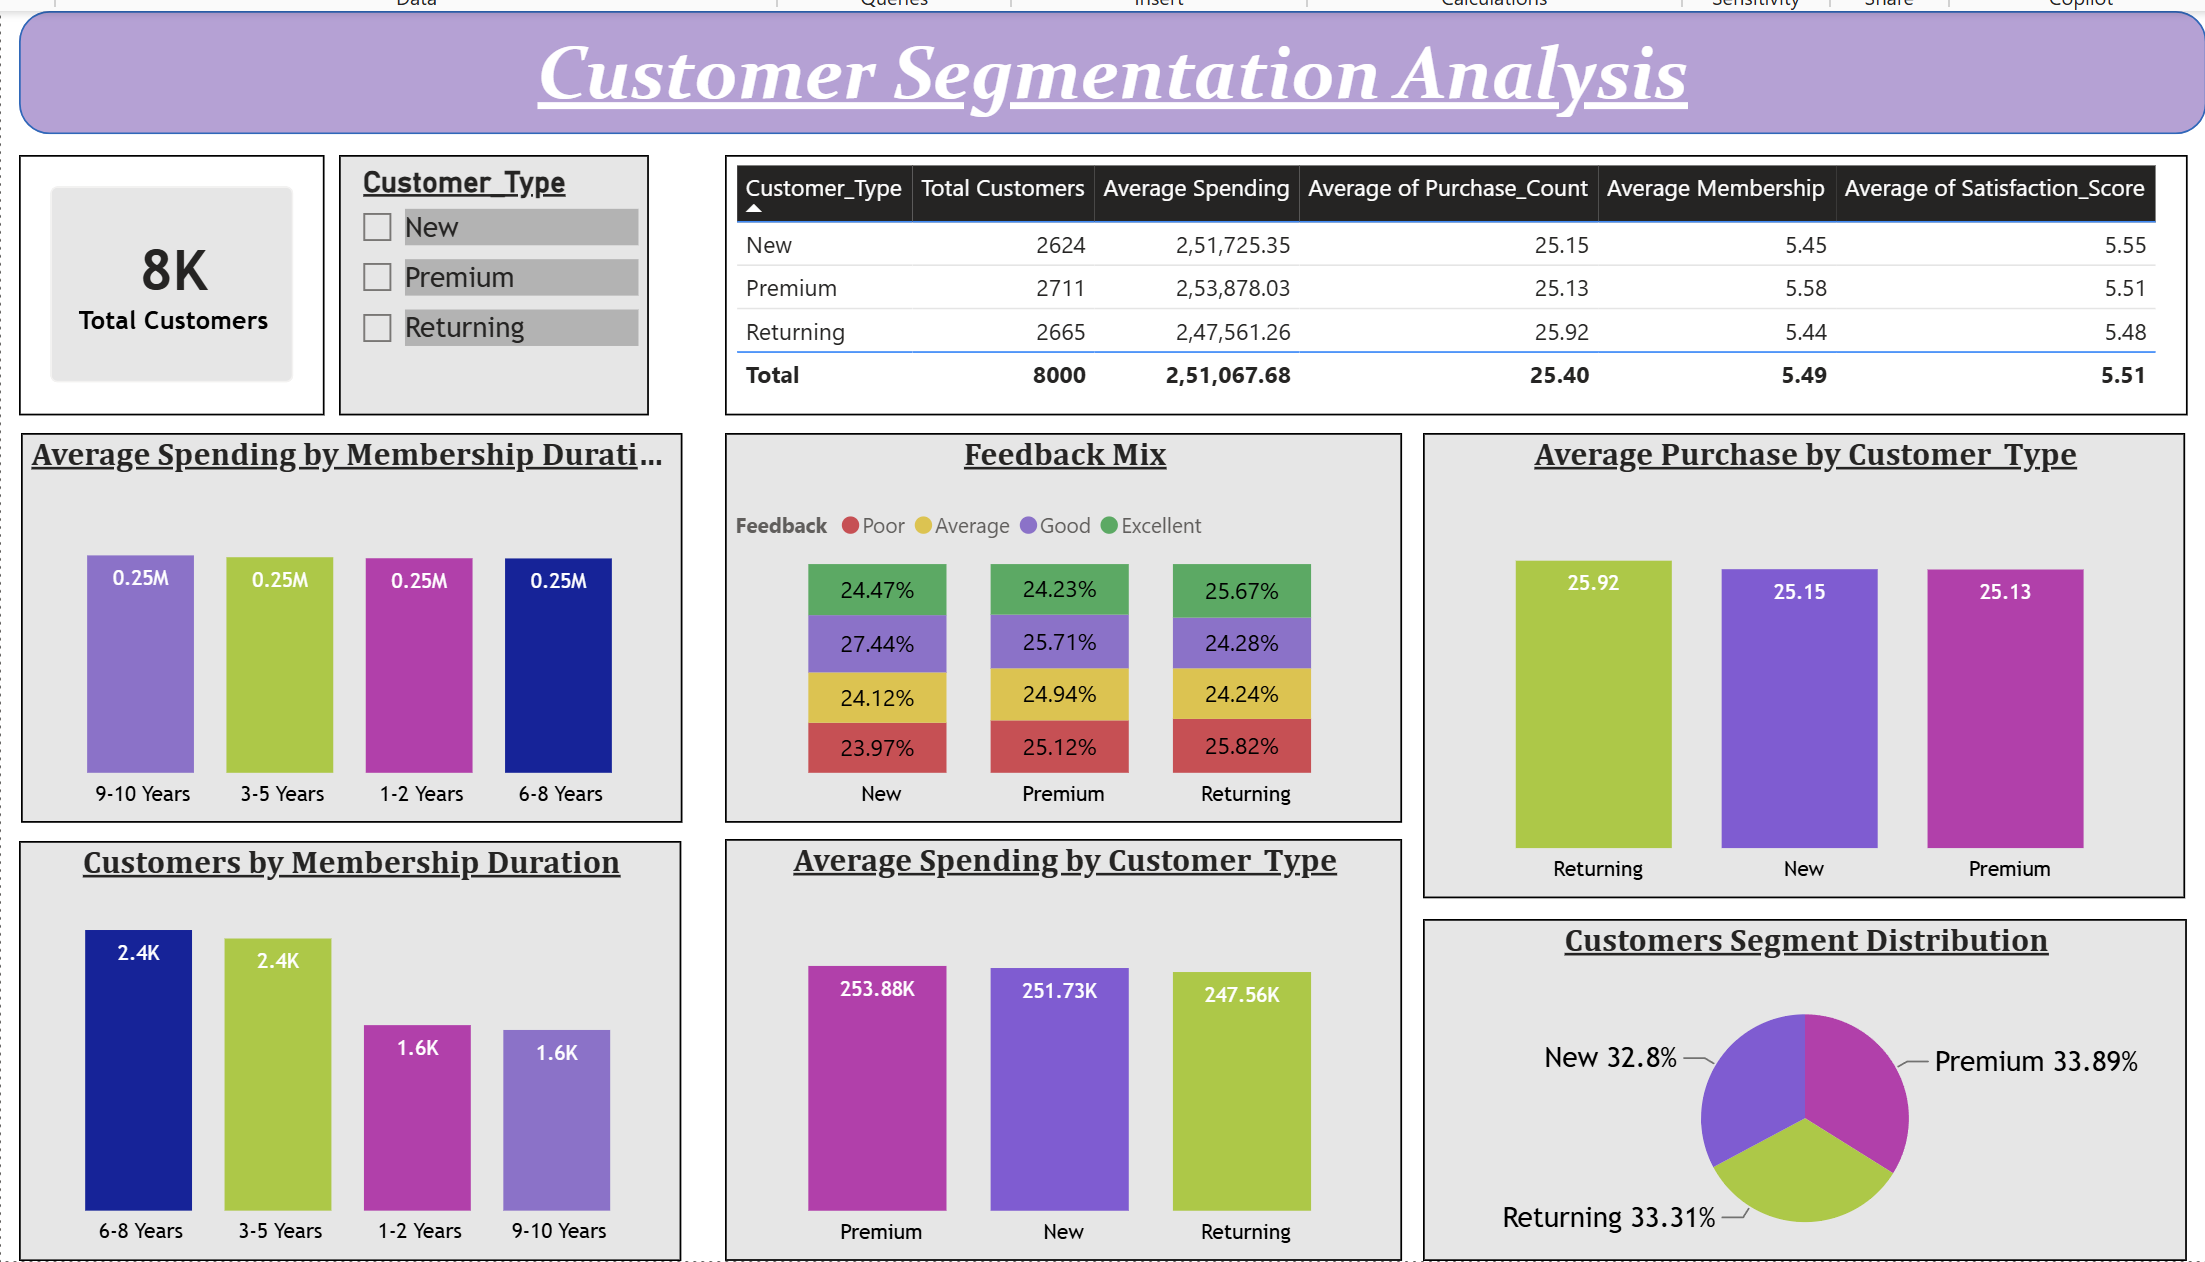

Layout of this report page (visuals, bound fields, positions):
{"tool":"powerbi","page":{"name":"L2 | T2","canvas":[1280,720],"ordinal":2},"visuals":[{"type":"shape","box":[10.2,0,1260,71],"z":0},{"type":"cardVisual","fields":{"Data":["Measures Table 1.Total Customers"]},"box":[10.5,82.8,176.1,149.8],"z":1000},{"type":"slicer","fields":{"Values":["Customer.Customer_Type"]},"box":[194.3,82.9,178.6,150],"z":2000},{"type":"pieChart","title":"Customers Segment Distribution","fields":{"Category":["Customer.Customer_Type"],"Y":["Measures Table 1.Total Customers"]},"box":[818.6,522.9,440,198.6],"z":3000},{"type":"clusteredColumnChart","fields":{"Category":["Customer.Customer_Type"],"Y":["Measures Table 2.Average Spending"]},"box":[416.6,477,390,243.1],"z":4000},{"type":"tableEx","fields":{"Values":["Customer.Customer_Type","Measures Table 1.Total Customers","Measures Table 2.Average Spending","Avg(Customer.Purchase_Count)","Customer.Average Membership","Avg(Customer.Satisfaction_Score)"]},"box":[416.6,82.8,842.4,149.8],"z":5000},{"type":"columnChart","title":"Customers by Membership Duration","fields":{"Category":["Customer.Membership Duration"],"Y":["Measures Table 1.Total Customers"]},"box":[10.5,478.4,381,243.1],"z":6000},{"type":"columnChart","fields":{"Category":["Customer.Membership Duration"],"Y":["Measures Table 2.Average Spending"]},"box":[11.8,243.1,381.1,224.7],"z":7000},{"type":"clusteredColumnChart","title":"Average Purchase by Customer_Type","fields":{"Category":["Customer.Customer_Type"],"Y":["Avg(Customer.Purchase_Count)"]},"box":[818.7,243.1,438.9,268.1],"z":8000},{"type":"hundredPercentStackedColumnChart","title":"Feedback Mix","fields":{"Category":["Customer.Customer_Type"],"Series":["Customer.Feedback"],"Y":["Measures Table 1.Total Customers"]},"box":[416.6,243.1,390,224.7],"z":9000}]}

Visuals, with their boxes on the page's 1280x720 design canvas (x1, y1, x2, y2). These are canvas units, not pixel positions in the 2205x1262 screenshot, which may show the page scaled, cropped or inside an application window:
shape: [x1=10, y1=0, x2=1270, y2=71]
cardVisual - Measures Table 1.Total Customers: [x1=10, y1=83, x2=187, y2=233]
slicer - Customer.Customer_Type: [x1=194, y1=83, x2=373, y2=233]
"Customers Segment Distribution" pieChart: [x1=819, y1=523, x2=1259, y2=722]
clusteredColumnChart - Customer.Customer_Type x Measures Table 2.Average Spending: [x1=417, y1=477, x2=807, y2=720]
tableEx - Customer.Customer_Type x Measures Table 1.Total Customers: [x1=417, y1=83, x2=1259, y2=233]
"Customers by Membership Duration" columnChart: [x1=10, y1=478, x2=392, y2=722]
columnChart - Customer.Membership Duration x Measures Table 2.Average Spending: [x1=12, y1=243, x2=393, y2=468]
"Average Purchase by Customer_Type" clusteredColumnChart: [x1=819, y1=243, x2=1258, y2=511]
"Feedback Mix" hundredPercentStackedColumnChart: [x1=417, y1=243, x2=807, y2=468]
